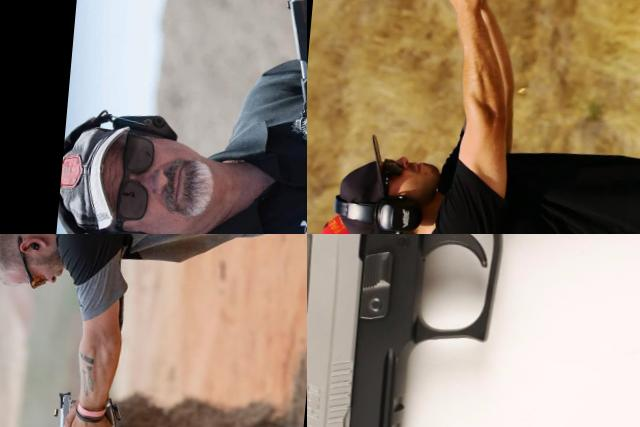handgun: (307, 234, 640, 427), (271, 0, 307, 132), (423, 0, 491, 44), (47, 388, 123, 427)
